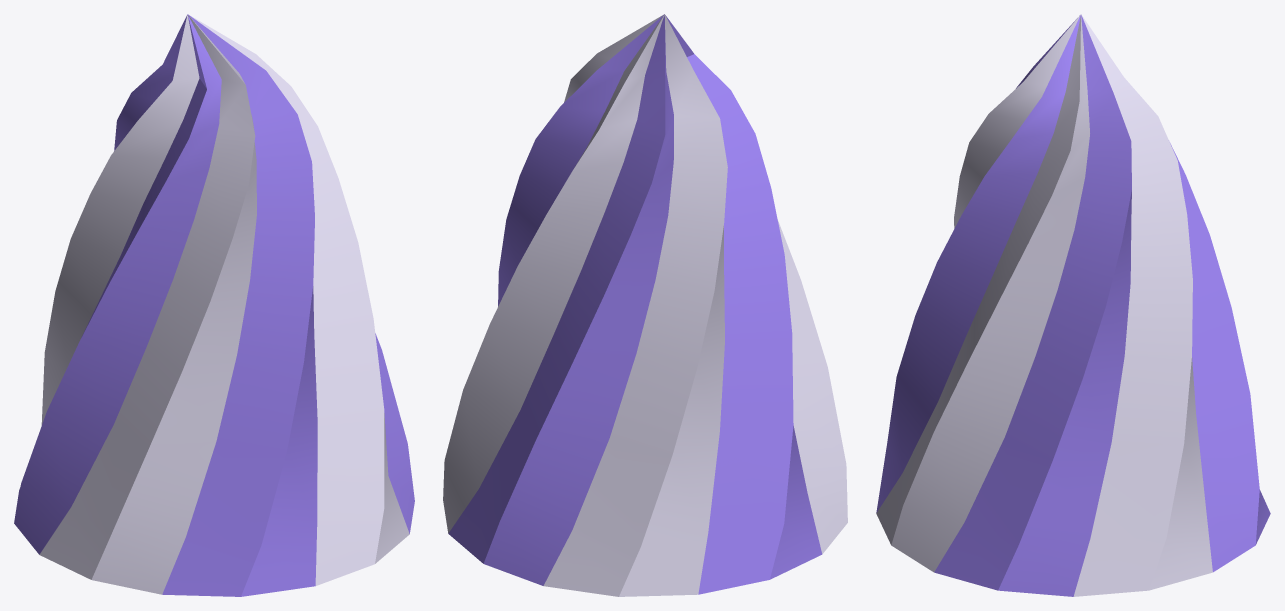
File: Ice Cream Hat E.fbx
3 renders of one model, left to right at view 1: azimuth 30°, elevation 25°; view 2: azimuth 150°, elevation 25°; view 3: azimuth 270°, elevation 25°, orthographic. The views are drawn at different scales.
Parts seen in each view (by area): view 1: Ice Cream Hat E; view 2: Ice Cream Hat E; view 3: Ice Cream Hat E.
Part boxes in pixels (<box>): Ice Cream Hat E: <box>14,14,414,596</box>; Ice Cream Hat E: <box>443,14,847,596</box>; Ice Cream Hat E: <box>876,14,1270,596</box>.
Size of the model in its own units: 0.4333 by 0.5923 by 0.4333.
